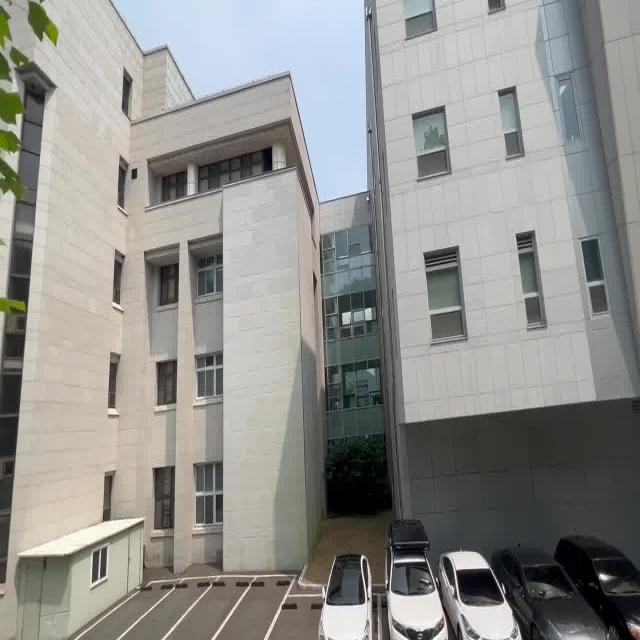building: (55, 2, 632, 555)
